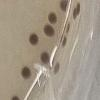black: (42, 22, 55, 38), (20, 65, 32, 80), (28, 32, 39, 48), (58, 0, 70, 13), (39, 50, 50, 64), (47, 10, 57, 25), (9, 93, 20, 100)
